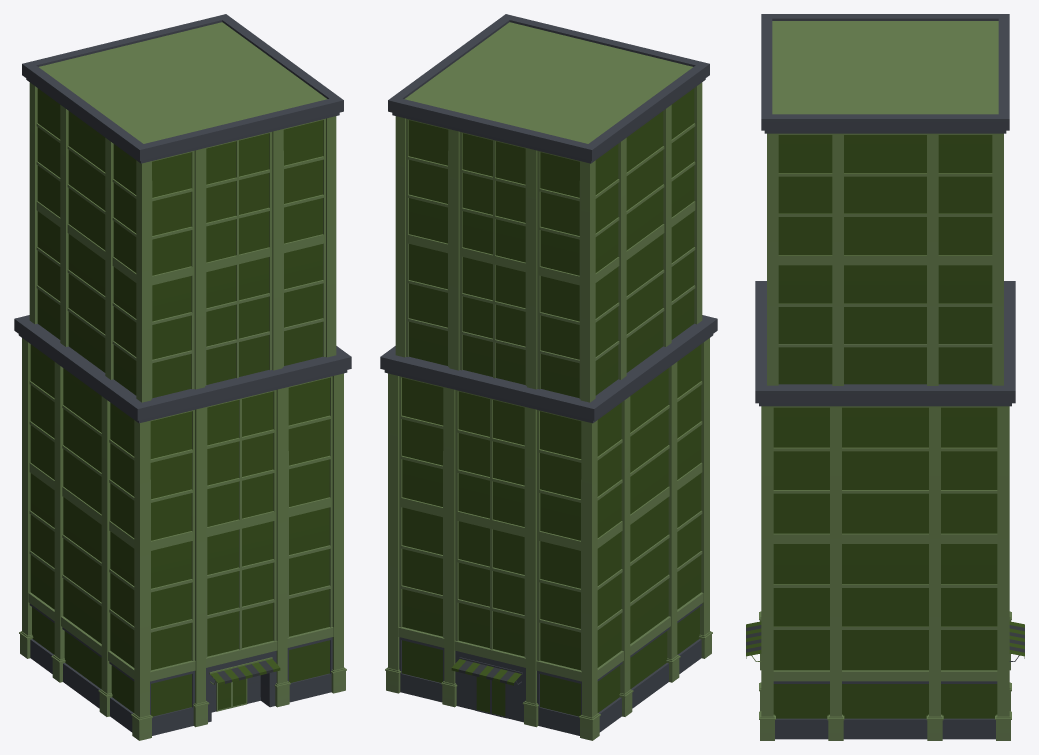
The model's file is House_37.fbx.
3 renders of one model, left to right at view 1: azimuth 30°, elevation 25°; view 2: azimuth 150°, elevation 25°; view 3: azimuth 270°, elevation 25°, orthographic. The views are drawn at different scales.
Visible parts, largest first — view 1: House_37; view 2: House_37; view 3: House_37.
Part boxes in pixels (left/top/right/bottom): House_37: left=14, top=14, right=351, bottom=740; House_37: left=380, top=14, right=717, bottom=740; House_37: left=746, top=14, right=1024, bottom=740.
Bounding box in the file's own units: 12.06 × 31.77 × 12.93.
